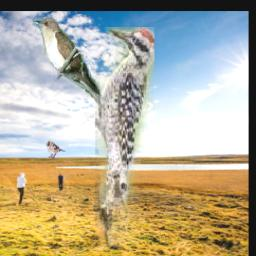Cuckoo: (30, 16, 129, 136)
Sparrow: (47, 141, 67, 159)
Woodpecker: (95, 28, 154, 248)
